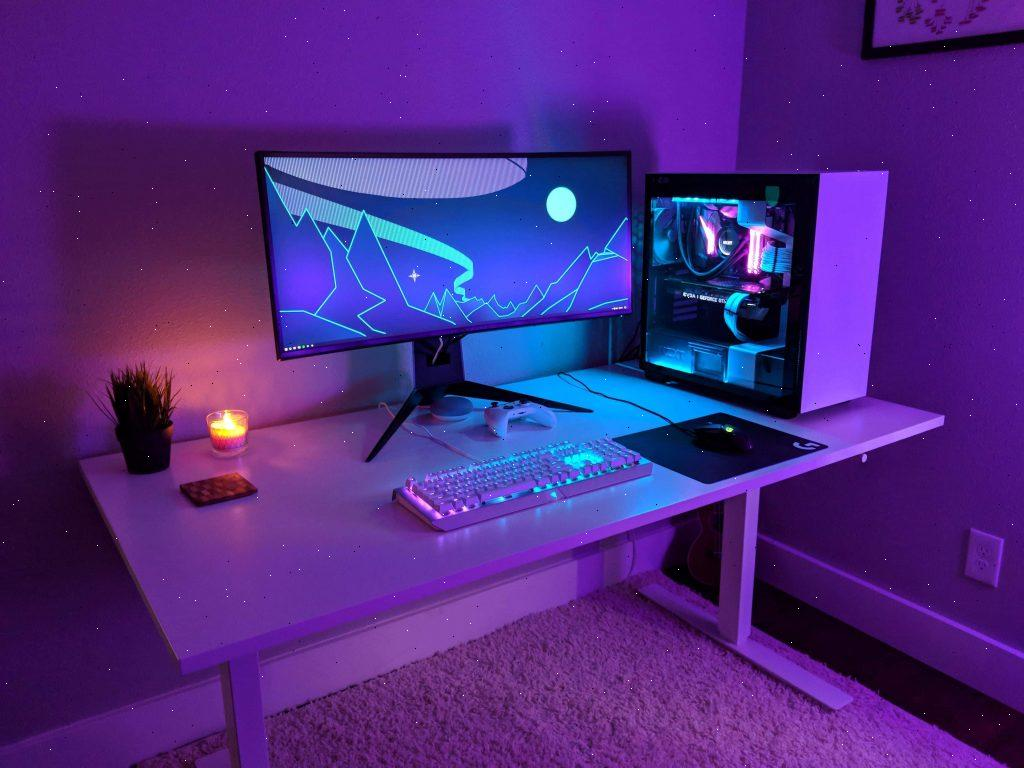keyboard: (376, 429, 665, 539)
monitor: (244, 129, 647, 351)
mouse: (689, 414, 760, 465)
pc: (622, 156, 913, 420)
